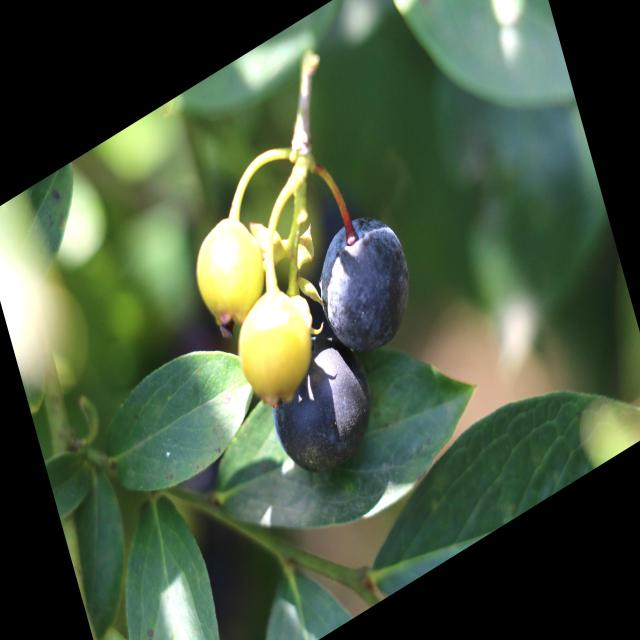blueberry: (262, 311, 392, 493), (306, 194, 430, 376)
blueberry-unripe: (227, 273, 323, 419), (185, 202, 273, 335)
